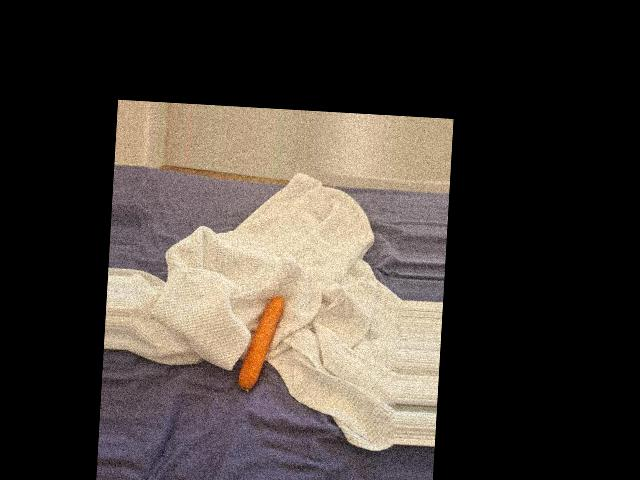carrot: (236, 293, 284, 393)
